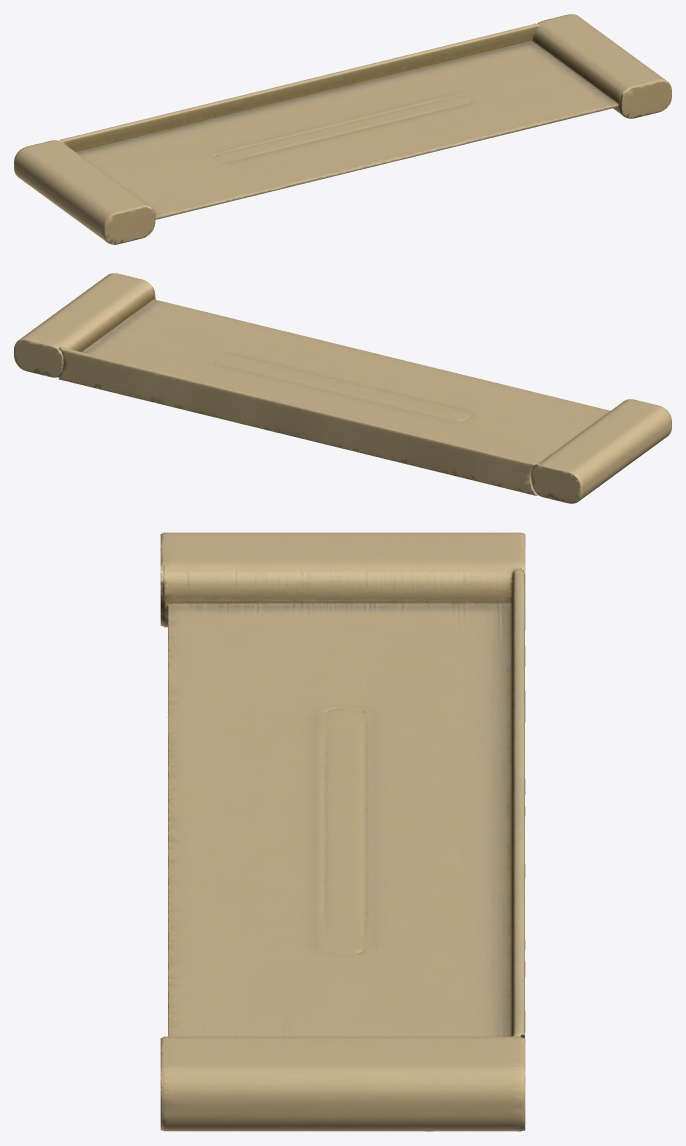
Rendered from shower-shelf.glb.
3 views of the same model, one above another, from view 1: azimuth 30°, elevation 25°; view 2: azimuth 150°, elevation 25°; view 3: azimuth 270°, elevation 25° (orthographic). The views are drawn at different scales.
Bounding box in the file's own units: 0.4627 × 0.025 × 0.1287.
Materials: 1 (1 with a texture image).
